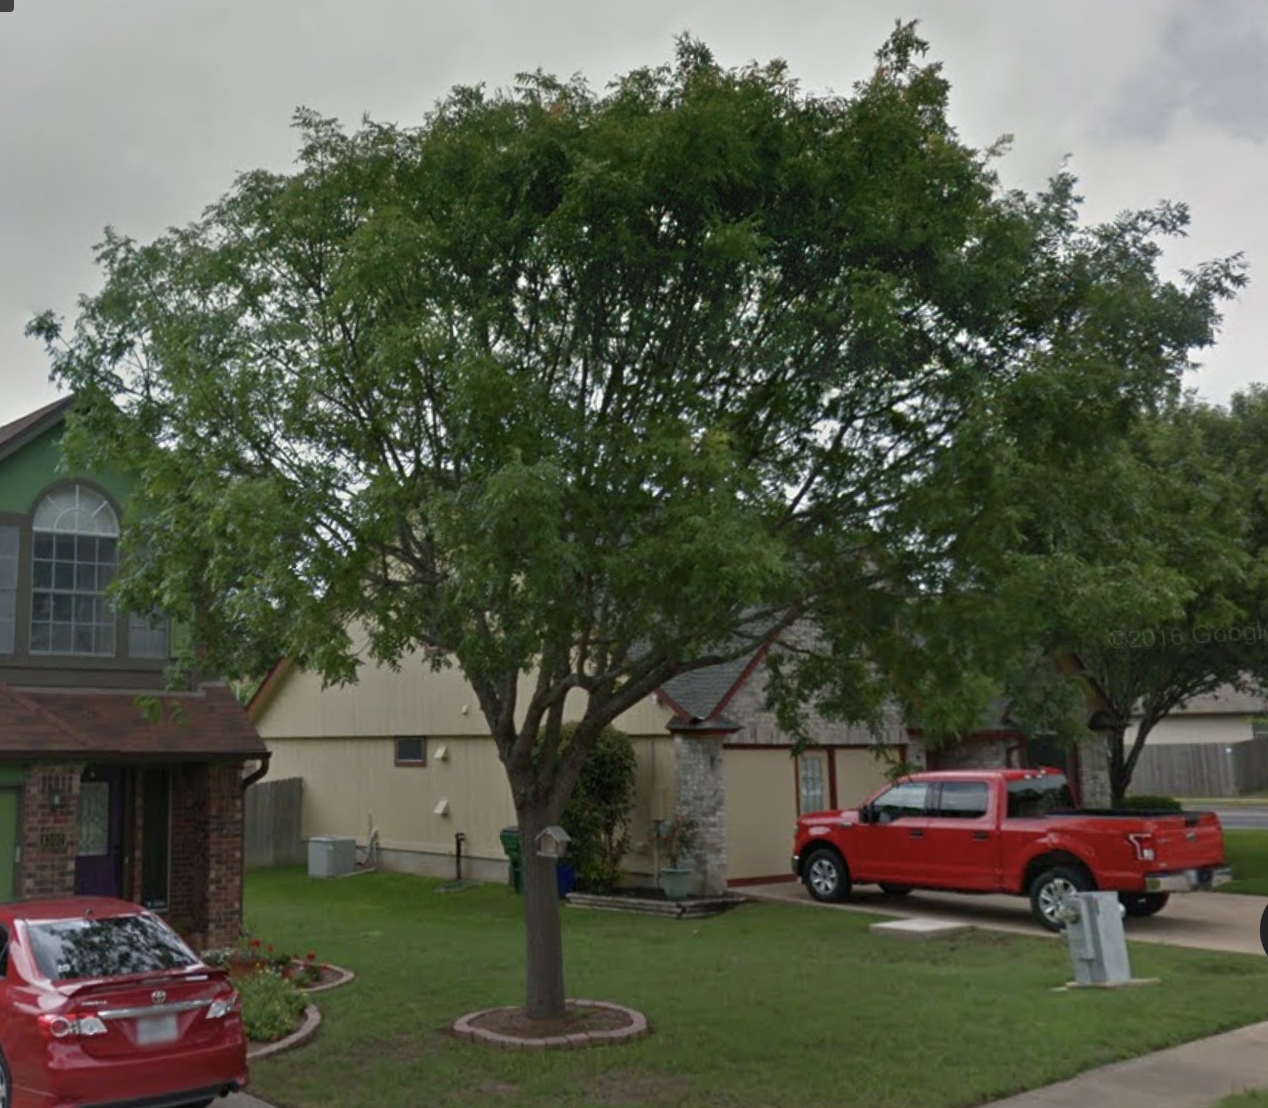tree: (20, 33, 1144, 1009), (868, 398, 1268, 815)
